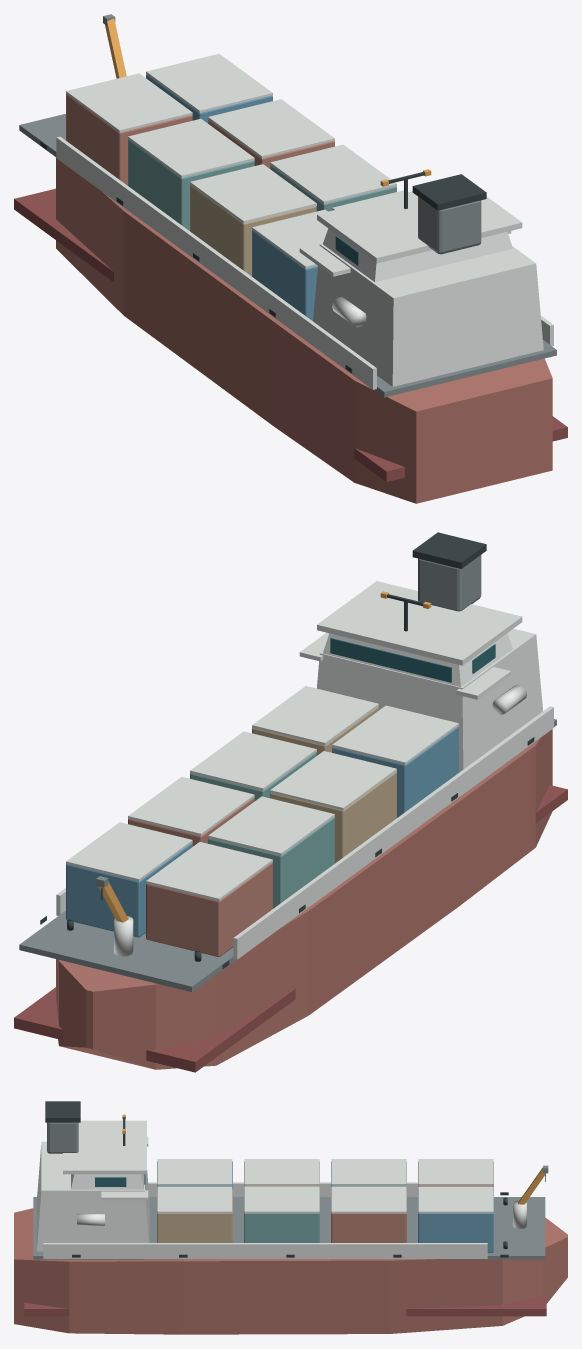
File: ALLY_SupplyShip_Art.fbx
3 renders of one model, top to bottom at view 1: azimuth 30°, elevation 25°; view 2: azimuth 150°, elevation 25°; view 3: azimuth 270°, elevation 25°, orthographic. The views are drawn at different scales.
Parts seen in each view (by area): view 1: RedDisplacementHull, AftDeckhouse, RaisedBulwark, BridgeRoof, ContainerTop.004, ContainerTop.007, ContainerTop.002, ContainerTop.005, ContainerTop.006, ContainerTop.003, DarkWaterlineBelt, CargoContainer.004 (+14 smaller); view 2: RedDisplacementHull, AftDeckhouse, BridgeRoof, RaisedBulwark, GreyWorkingDeck, CargoContainer.006, DarkWaterlineBelt, ContainerTop, ContainerTop.004, ContainerTop.001, ContainerTop.002, ContainerTop.003 (+16 smaller); view 3: RedDisplacementHull, RaisedBulwark.001, AftDeckhouse, GreyWorkingDeck, BridgeRoof, CargoContainer.007, CargoContainer.001, CargoContainer.003, CargoContainer.005, DarkWaterlineBelt, ContainerTop.003, ContainerTop.005 (+14 smaller).
Part boxes in pixels (x1,y1,x2,y2): RedDisplacementHull: (56, 157, 552, 503); AftDeckhouse: (313, 243, 543, 386); RaisedBulwark: (56, 136, 376, 389); BridgeRoof: (317, 191, 522, 263); ContainerTop.004: (128, 118, 254, 178); ContainerTop.007: (146, 54, 272, 113); ContainerTop.002: (190, 164, 316, 223); ContainerTop.005: (208, 99, 334, 158); ContainerTop.006: (66, 73, 192, 132); ContainerTop.003: (270, 144, 396, 204); DarkWaterlineBelt: (14, 188, 567, 481); CargoContainer.004: (128, 139, 254, 230); RedDisplacementHull: (56, 729, 552, 1069); AftDeckhouse: (316, 628, 542, 772); BridgeRoof: (317, 581, 522, 665); RaisedBulwark: (233, 706, 553, 959); GreyWorkingDeck: (19, 719, 556, 991); CargoContainer.006: (146, 862, 272, 956); DarkWaterlineBelt: (14, 785, 567, 1072); ContainerTop: (332, 705, 458, 765); ContainerTop.004: (208, 796, 334, 855); ContainerTop.001: (252, 686, 378, 745); ContainerTop.002: (270, 751, 396, 810); ContainerTop.003: (190, 731, 316, 790); RedDisplacementHull: (14, 1208, 567, 1334); RaisedBulwark.001: (43, 1243, 487, 1258); AftDeckhouse: (36, 1141, 149, 1251); GreyWorkingDeck: (33, 1197, 545, 1259); BridgeRoof: (63, 1120, 146, 1174); CargoContainer.007: (418, 1189, 493, 1252); CargoContainer.001: (157, 1189, 232, 1242); CargoContainer.003: (244, 1189, 319, 1242); CargoContainer.005: (331, 1189, 406, 1242); DarkWaterlineBelt: (24, 1292, 546, 1316); ContainerTop.003: (244, 1186, 319, 1213); ContainerTop.005: (331, 1186, 406, 1213).
Bounding box in the file's own units: 420 × 598 × 1553.
